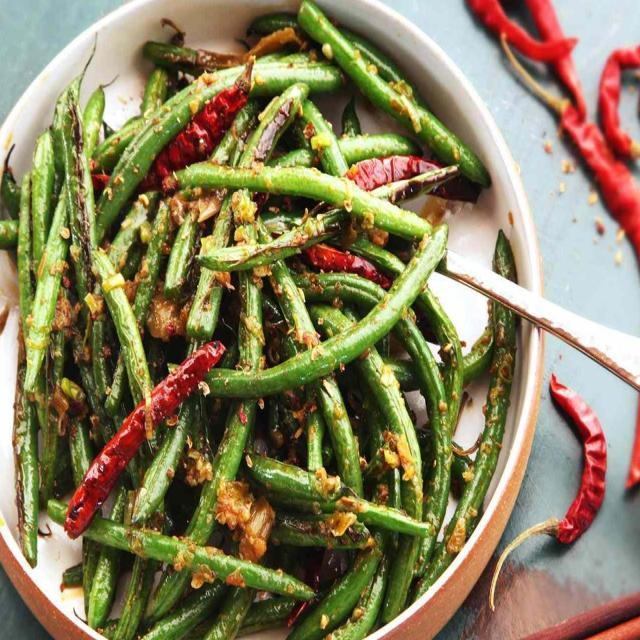Beans: (0, 8, 531, 639)
